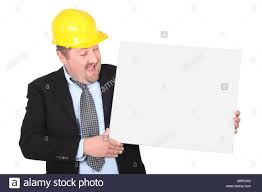Person_wearing_helmet: (50, 3, 110, 62)
